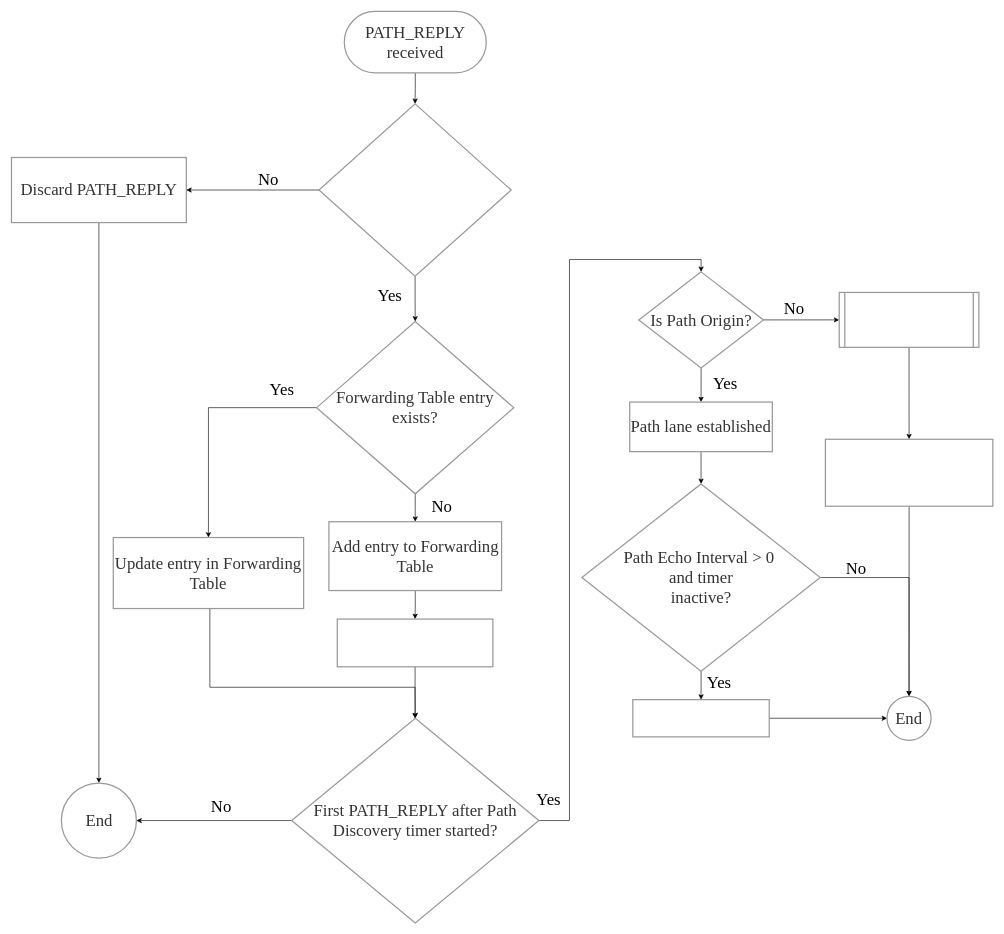
This 1004x934 diagram has some shape labels left out. Each missing label, with the centre of its shape:
Algorithm 2, 3: point (908, 320)
Discovery Table entry exists?: point (415, 190)
Prepare and send PATH_REPLY: point (908, 472)
Start Path Echo timer: point (701, 718)
Start Path Lifetime timer: point (414, 642)
